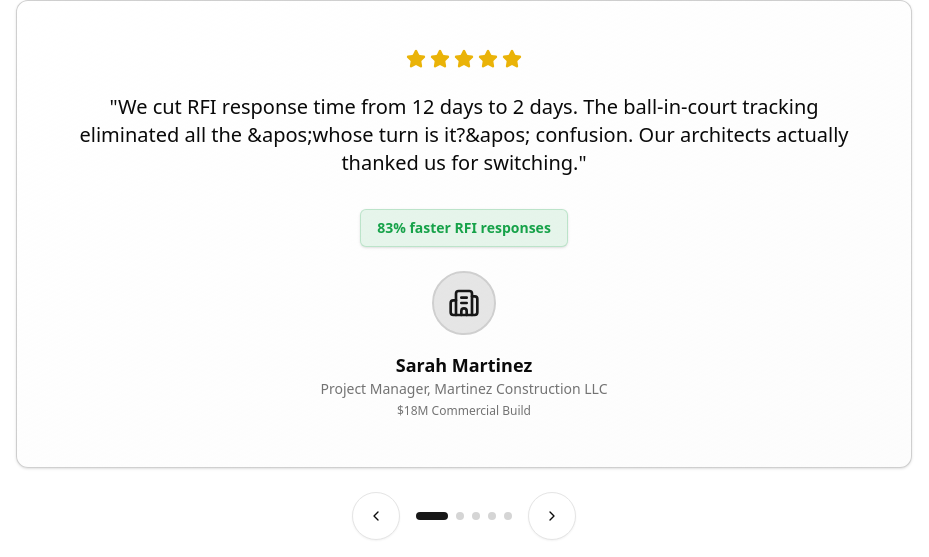
TestimonialCarousel › Navigation › should navigate to previous testimonial when previous button clicked
First go forward
Step 1. Click the button named "next testimonial" → (552, 516), box [528, 492, 576, 540]
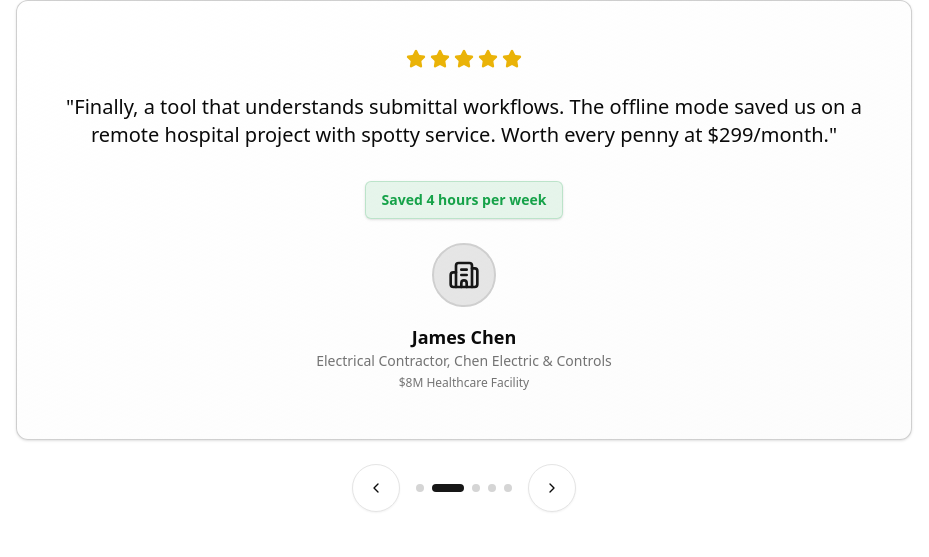
Expected: the text "James Chen" is shown, [412, 325, 516, 349]
Then go back
Step 2. Click the button named "previous testimonial" → (376, 488), box [352, 464, 400, 512]
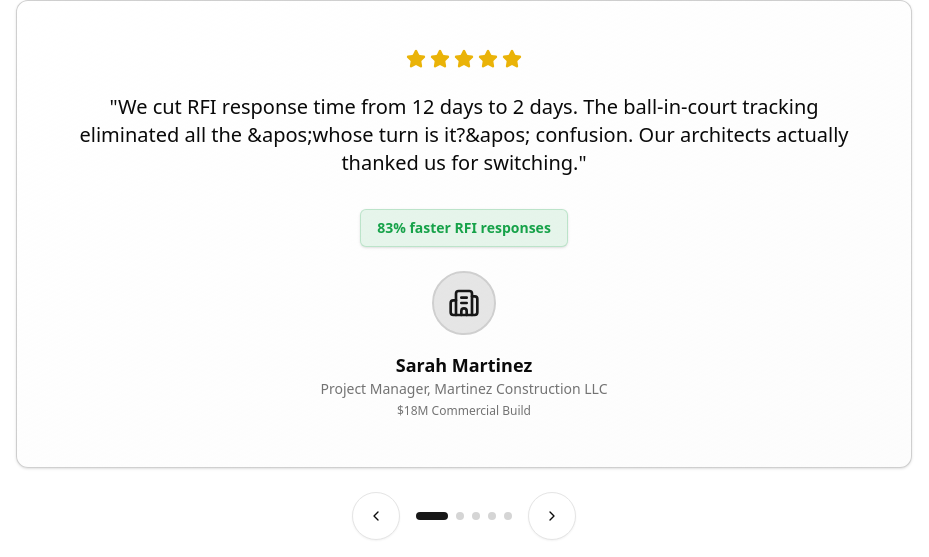
Expected: the text "Sarah Martinez" is shown, [396, 353, 532, 377]
